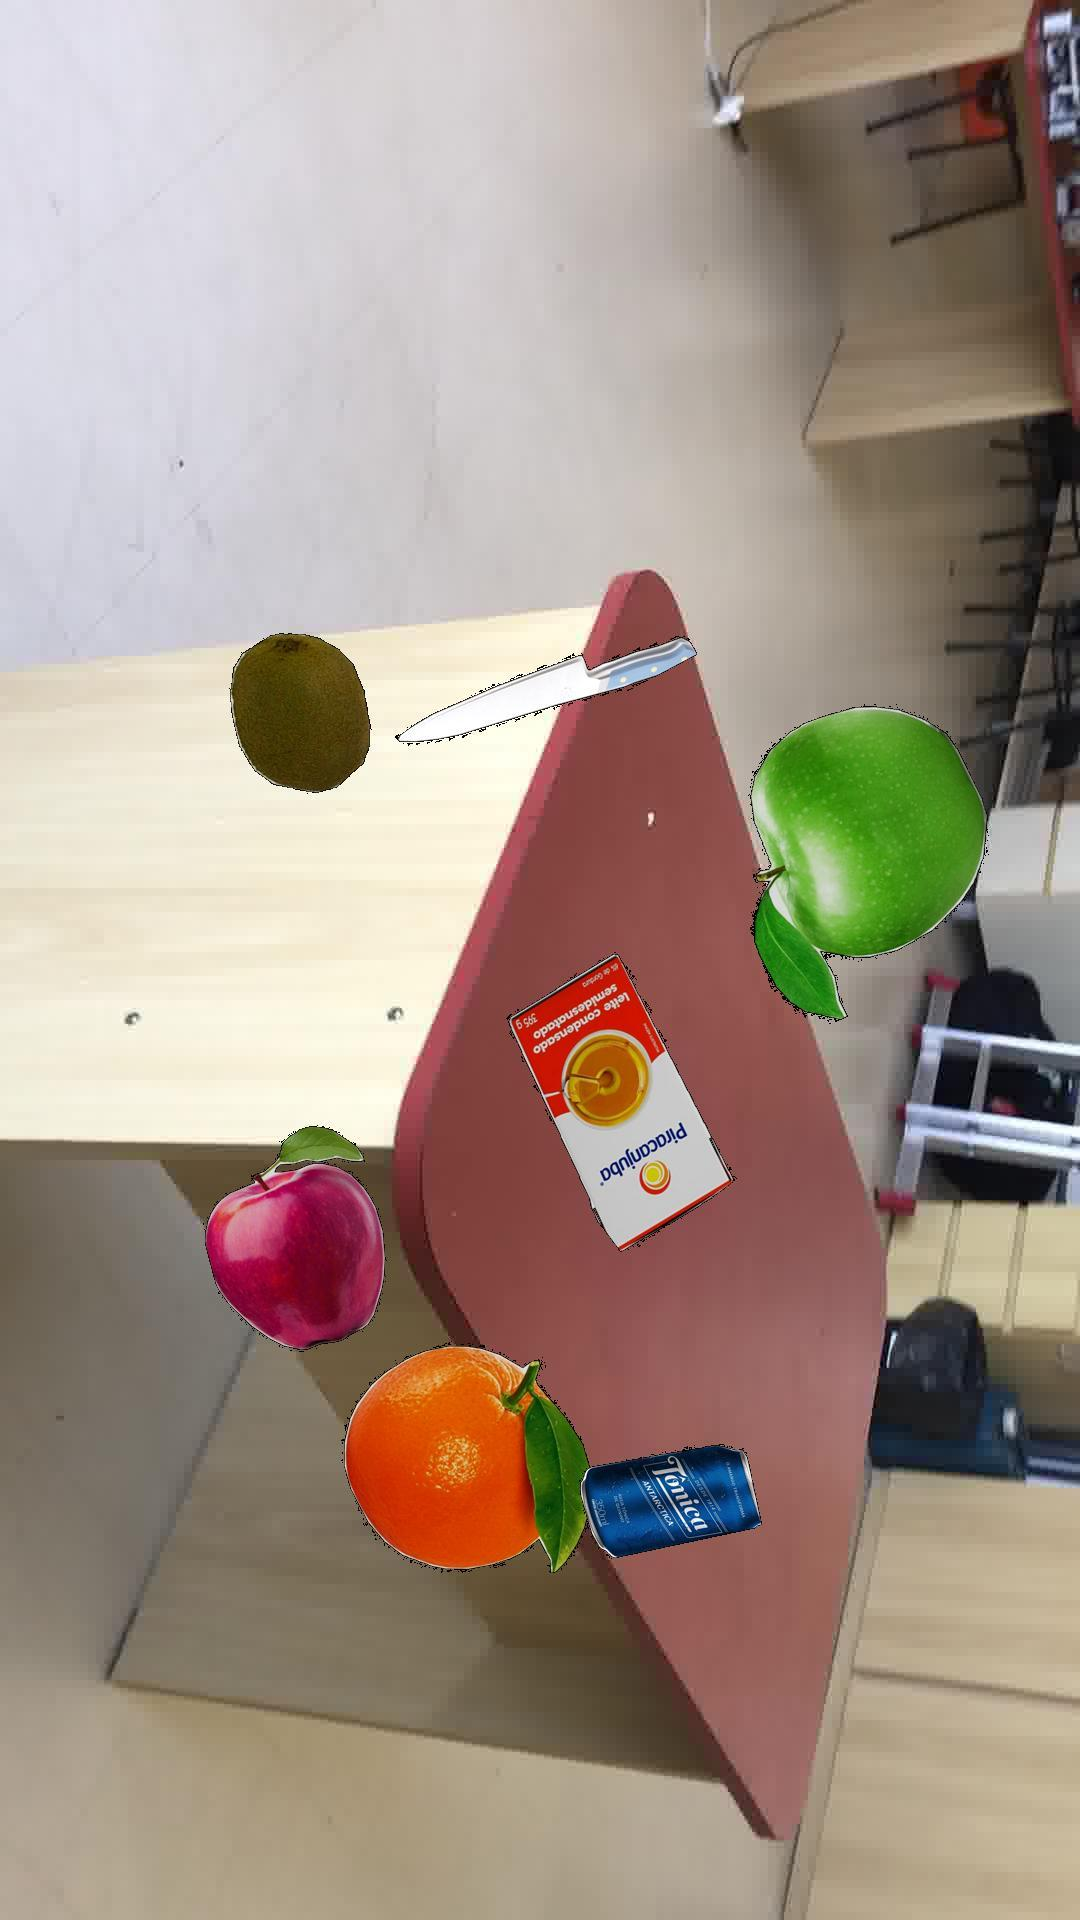apple: (203, 1125, 385, 1349)
green apple: (749, 703, 986, 1021)
kiwi: (228, 632, 369, 791)
knife: (393, 636, 695, 741)
orange: (339, 1344, 588, 1572)
tonic: (579, 1443, 761, 1556)
